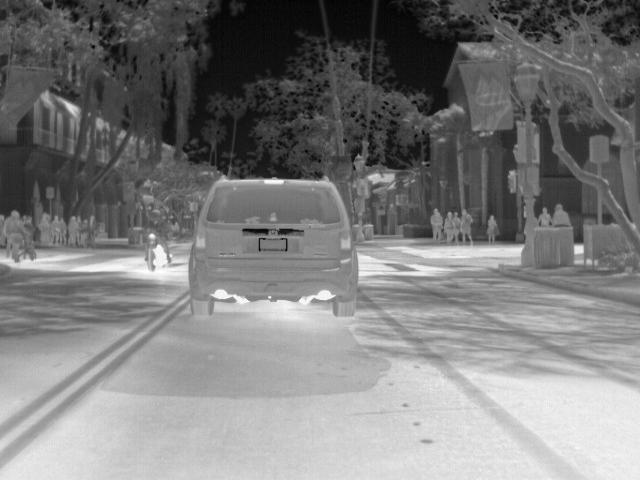car: (187, 172, 364, 317)
person: (3, 209, 27, 262), (146, 208, 170, 257), (460, 207, 478, 247), (437, 212, 458, 246), (549, 202, 572, 230), (48, 214, 62, 248), (66, 214, 80, 246), (429, 208, 442, 242), (486, 218, 501, 246), (86, 214, 99, 246), (536, 208, 550, 229)
